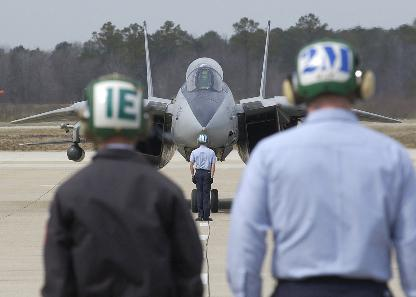EF2000: (10, 18, 400, 211)
